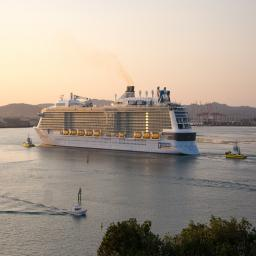cruises: (32, 85, 203, 161)
